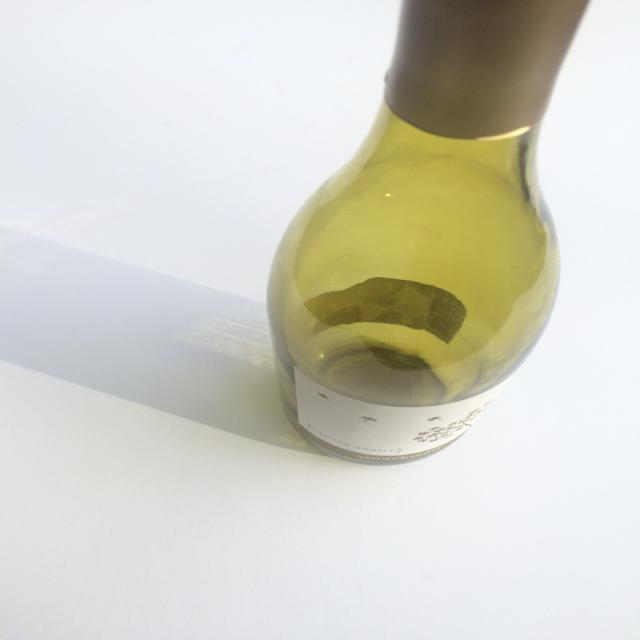glass: (265, 0, 596, 465)
